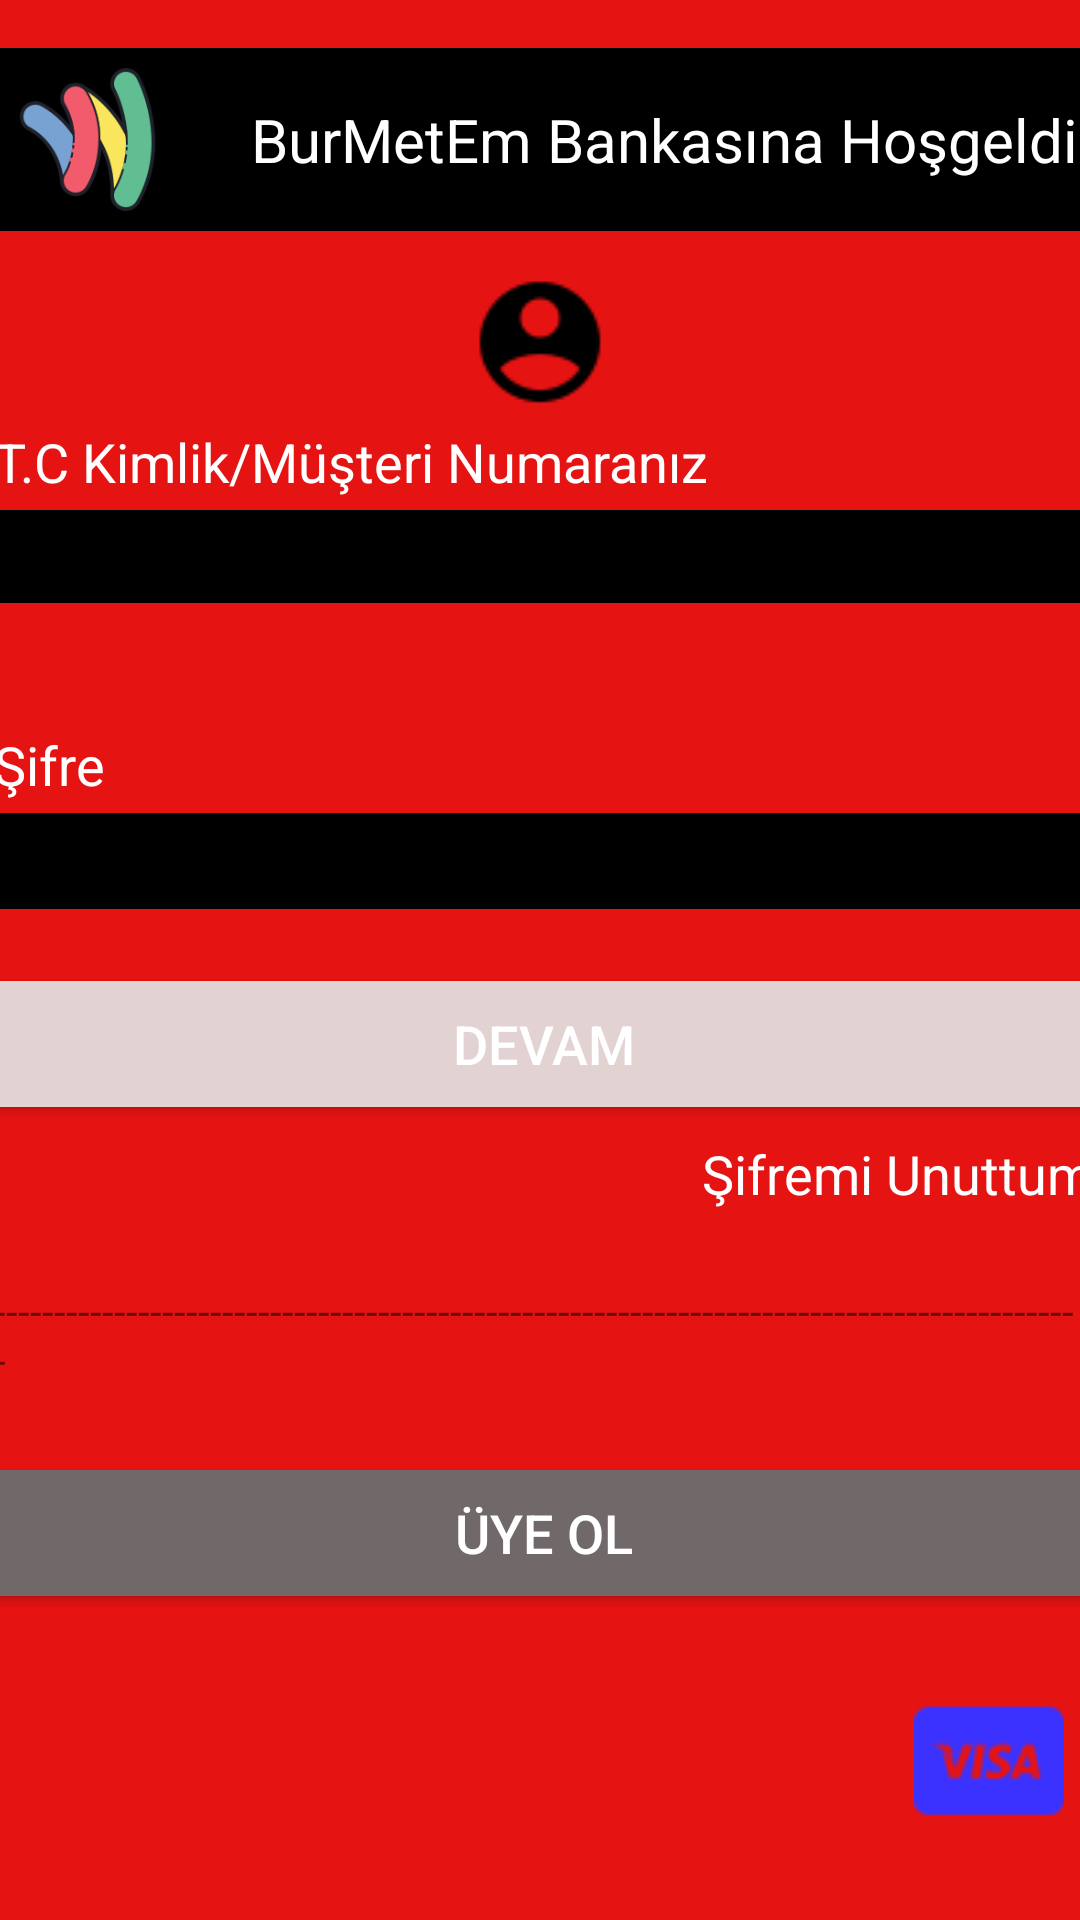

Where to tap for icons on this 1080 x 1920 app screen, as (x,y):
maleuser: (540,342)
